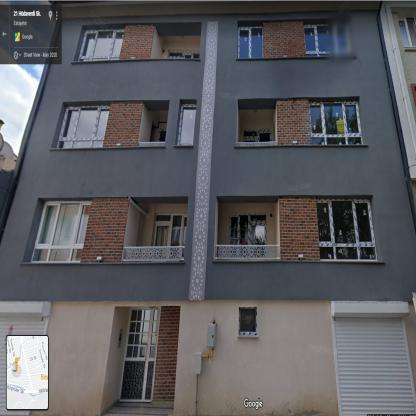door: (121, 307, 160, 400)
window: (317, 200, 377, 259), (32, 202, 90, 260), (309, 102, 362, 144), (57, 107, 108, 148), (304, 23, 349, 54), (78, 30, 124, 60), (231, 214, 266, 244), (154, 215, 186, 245), (238, 27, 263, 58), (178, 105, 194, 145), (400, 17, 414, 48), (240, 308, 256, 334), (244, 130, 271, 140), (167, 51, 198, 58)
